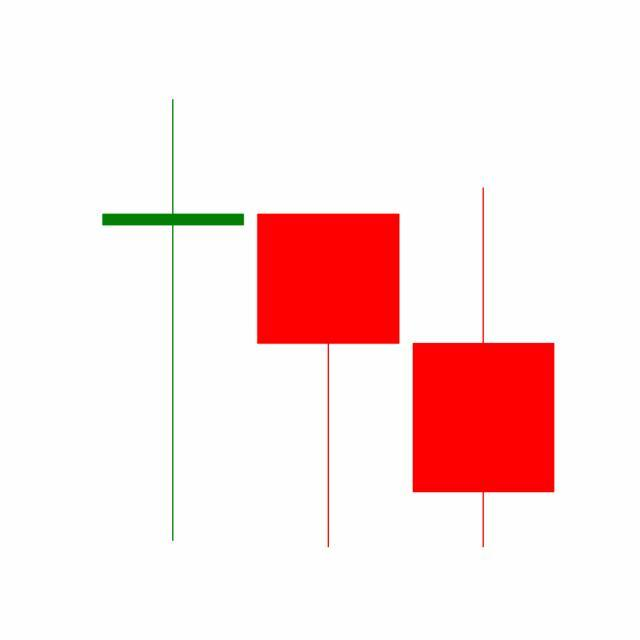Hammer: (250, 211, 407, 552)
